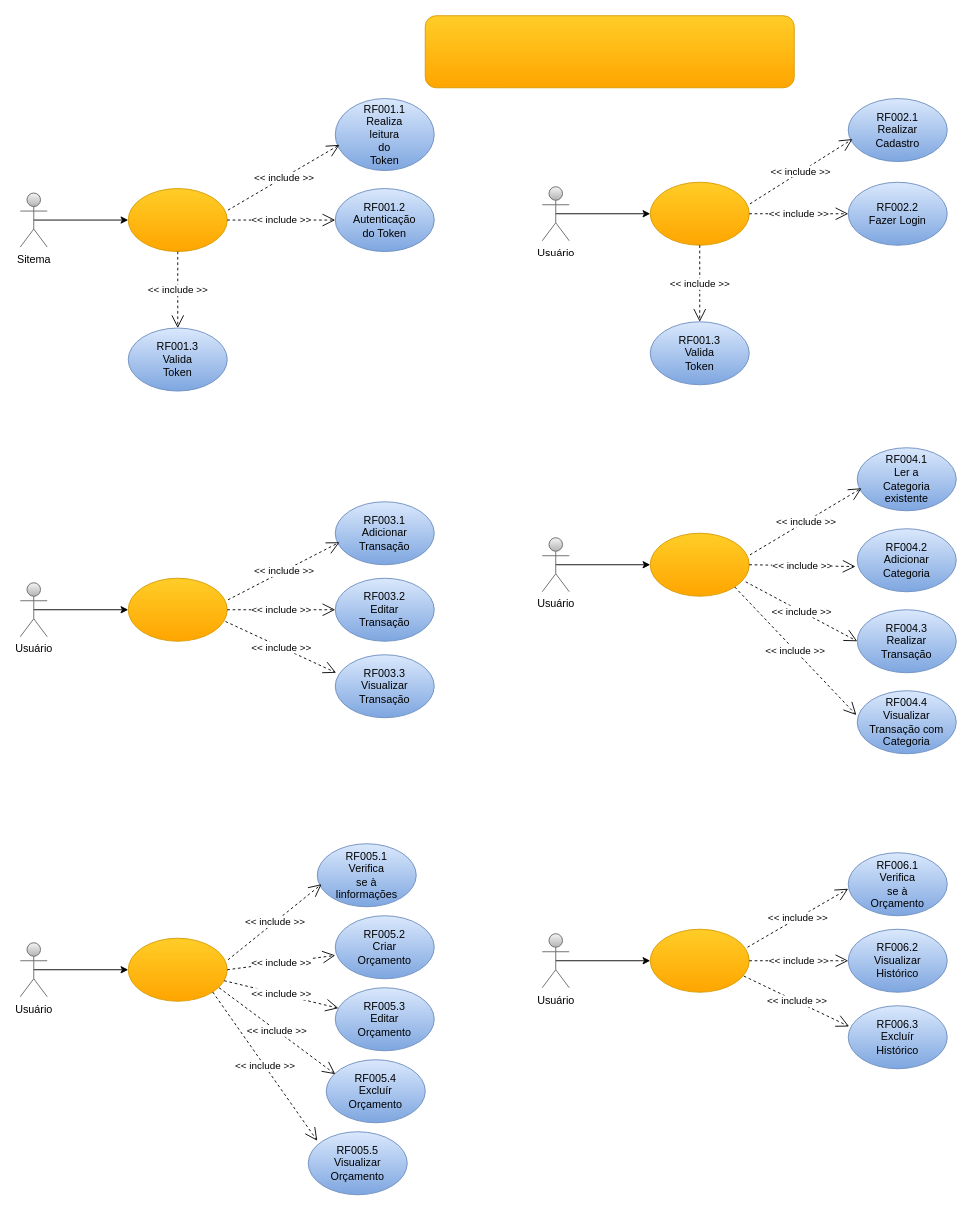
The diagram is 972 pixels wide and 1211 high, and some of its shapes have lost their labels. The shapes that lost their labels are listed below. From the top down, each one's centre as x and y in pixels, then its label:
At (x=609, y=51): "Diagrama Casos de Uso Projeto: FinTrack".
At (x=177, y=220): "RF001 Gerar Token".
At (x=699, y=213): "RF002 Registrar Login".
At (x=699, y=564): "RF004 Gerenciar Categorias".
At (x=177, y=609): "RF003 Gerenciar Transações".
At (x=177, y=969): "RF005 Gerenciar Orçamentos".
At (x=699, y=960): "RF006 Gerenciar Histórico".
